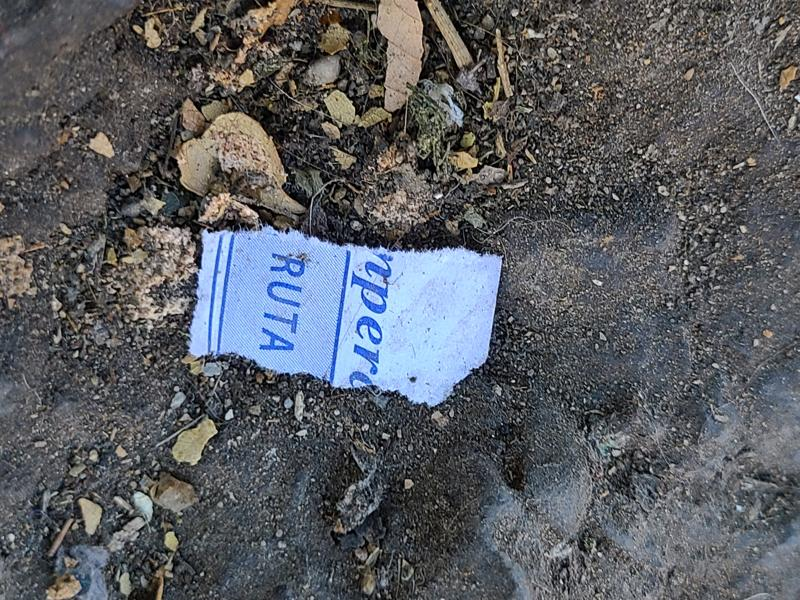papel: (187, 228, 504, 407)
